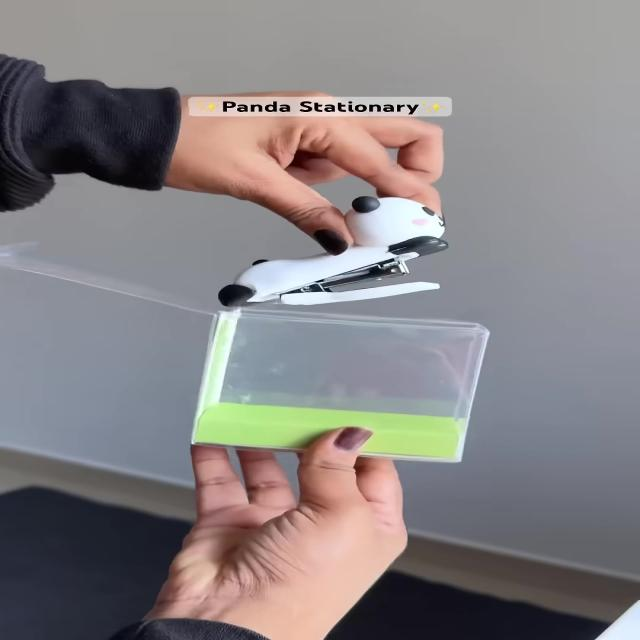stapler: (202, 188, 504, 325)
